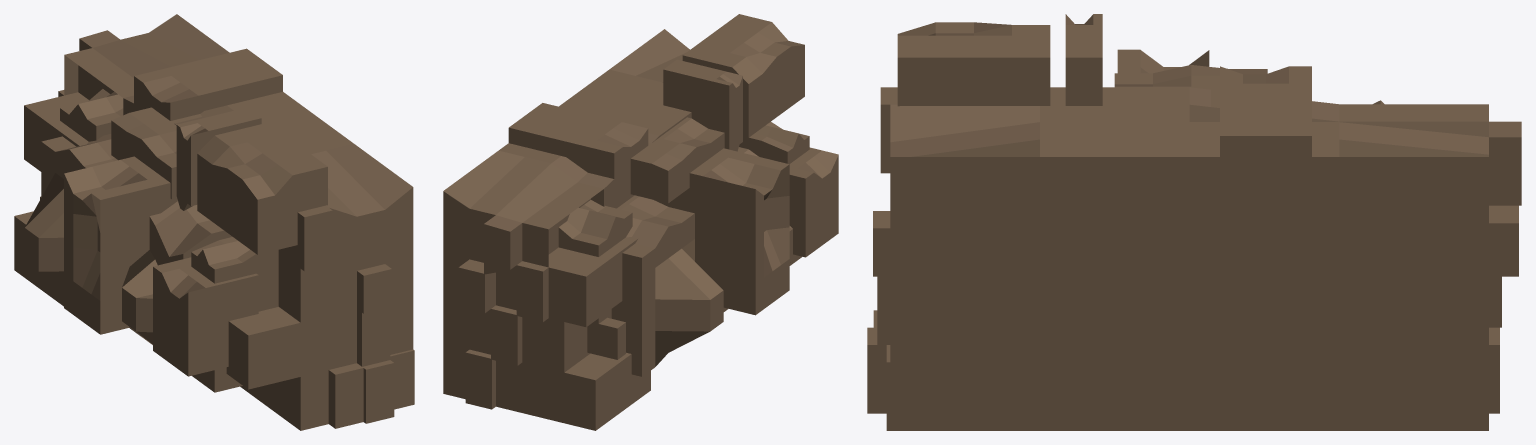
The model's file is rock.fbx.
3 renders of one model, left to right at view 1: azimuth 30°, elevation 25°; view 2: azimuth 150°, elevation 25°; view 3: azimuth 270°, elevation 25°, orthographic. The views are drawn at different scales.
Parts seen in each view (by area): view 1: Cube.124; view 2: Cube.124; view 3: Cube.124.
Boxes of the visible parts, bbox=[...] form: Cube.124: bbox=[14, 14, 414, 430]; Cube.124: bbox=[443, 14, 838, 430]; Cube.124: bbox=[867, 14, 1521, 430].
Bounding box in the file's own units: 7.45 × 8.13 × 14.95.
